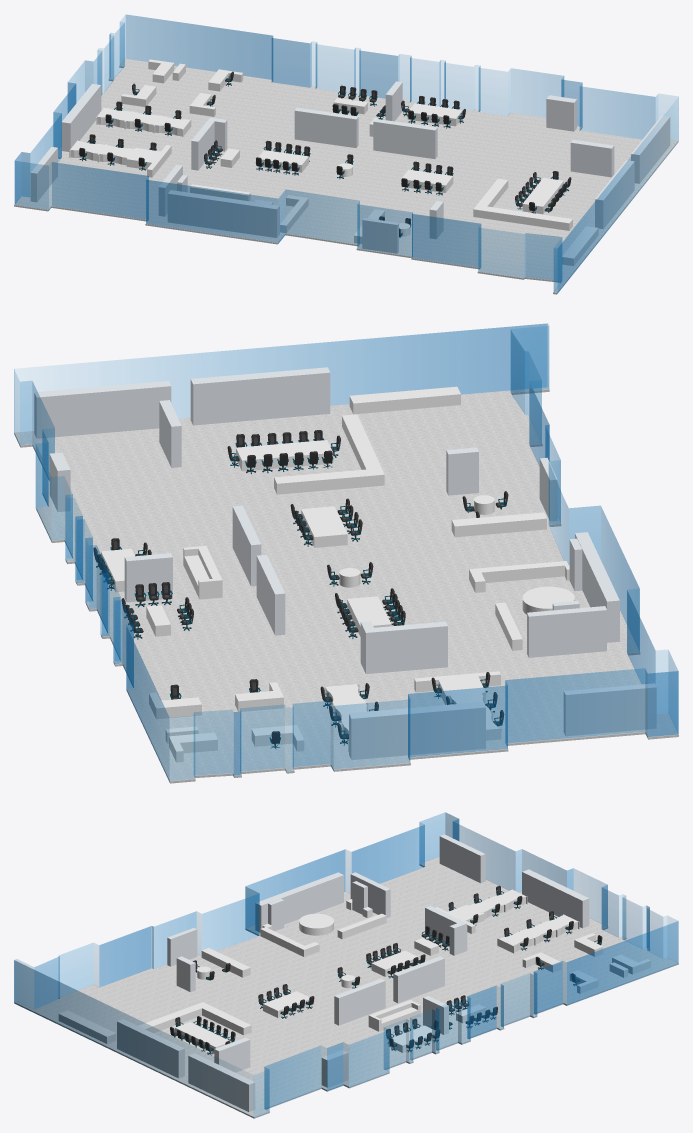
Rendered from first_jiupian.glb.
3 renders of one model, top to bottom at view 1: azimuth 30°, elevation 25°; view 2: azimuth 150°, elevation 25°; view 3: azimuth 270°, elevation 25°, orthographic. The views are drawn at different scales.
Parts seen in each view (by area): view 1: firstground, firstwall, firstcabinet, firstdesk; view 2: firstground, firstwall, firstcabinet, firstdesk, firstbarcounter; view 3: firstground, firstwall, firstcabinet, firstdesk, firstbarcounter.
Boxes of the visible parts, bbox=[...] form: firstground: bbox=[14, 59, 678, 294]; firstwall: bbox=[14, 14, 678, 293]; firstcabinet: bbox=[30, 81, 670, 253]; firstdesk: bbox=[69, 59, 598, 265]; firstground: bbox=[14, 387, 678, 783]; firstwall: bbox=[14, 323, 678, 781]; firstcabinet: bbox=[34, 367, 656, 759]; firstdesk: bbox=[101, 386, 574, 762]; firstbarcounter: bbox=[183, 546, 222, 599]; firstground: bbox=[14, 856, 678, 1118]; firstwall: bbox=[14, 812, 678, 1117]; firstcabinet: bbox=[117, 834, 589, 1111]; firstdesk: bbox=[58, 889, 650, 1053]; firstbarcounter: bbox=[368, 1000, 420, 1031].
Size of the model in its own units: 39.01 by 3.19 by 41.67.
Materials: 81 (78 with a texture image).
